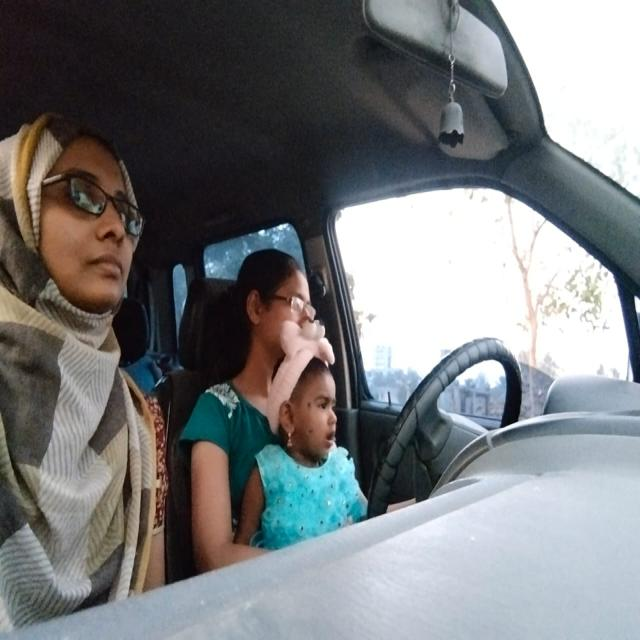child: (268, 348, 346, 466)
person: (5, 108, 151, 342), (232, 248, 328, 346)
